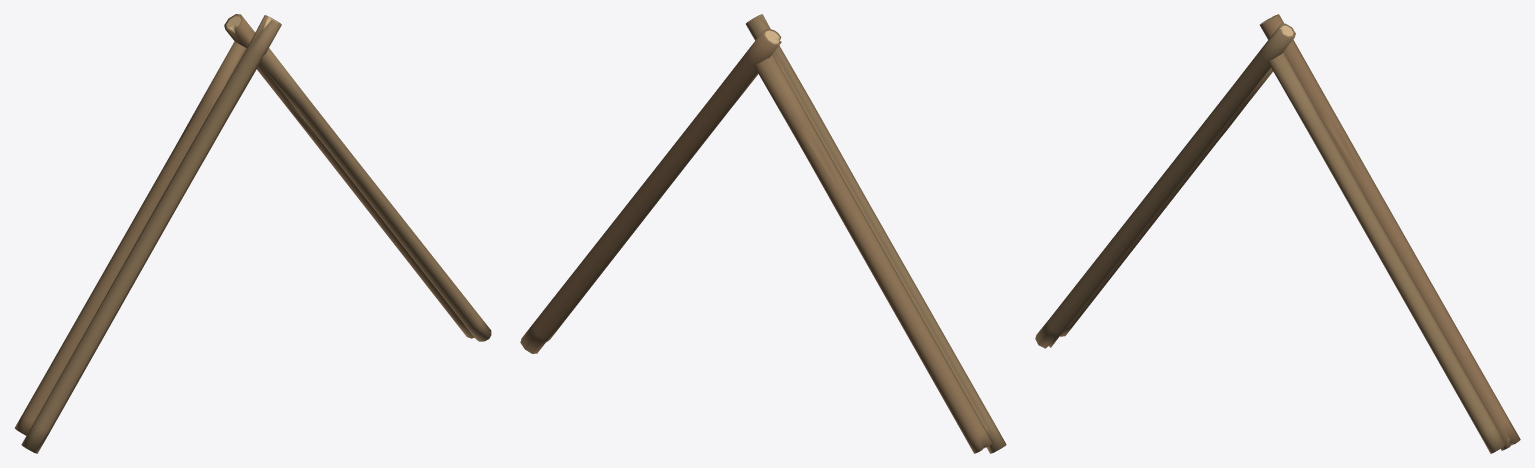
The model's file is rpgpp_ag_roof_01_6x5x3_end_01b.fbx.
3 renders of one model, left to right at view 1: azimuth 30°, elevation 25°; view 2: azimuth 150°, elevation 25°; view 3: azimuth 330°, elevation 25°, orthographic.
Parts seen in each view (by area): view 1: rpgpp_ag_roof_01_6x5x3_end_01b; view 2: rpgpp_ag_roof_01_6x5x3_end_01b; view 3: rpgpp_ag_roof_01_6x5x3_end_01b.
Boxes of the visible parts, x1,y1,x2,y2 form: rpgpp_ag_roof_01_6x5x3_end_01b: (14, 14, 491, 453); rpgpp_ag_roof_01_6x5x3_end_01b: (520, 14, 1006, 453); rpgpp_ag_roof_01_6x5x3_end_01b: (1035, 14, 1520, 453).
Size of the model in its own units: 10.28 by 7.93 by 0.81.
